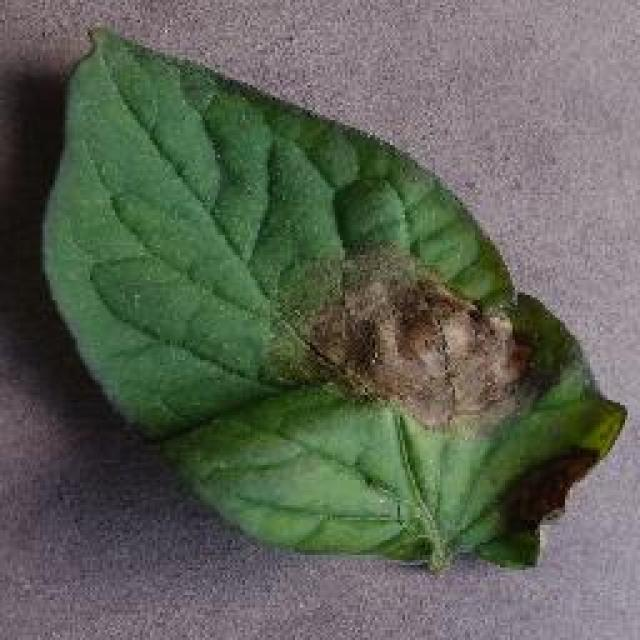Tomato Late Blight: (290, 228, 552, 424)
